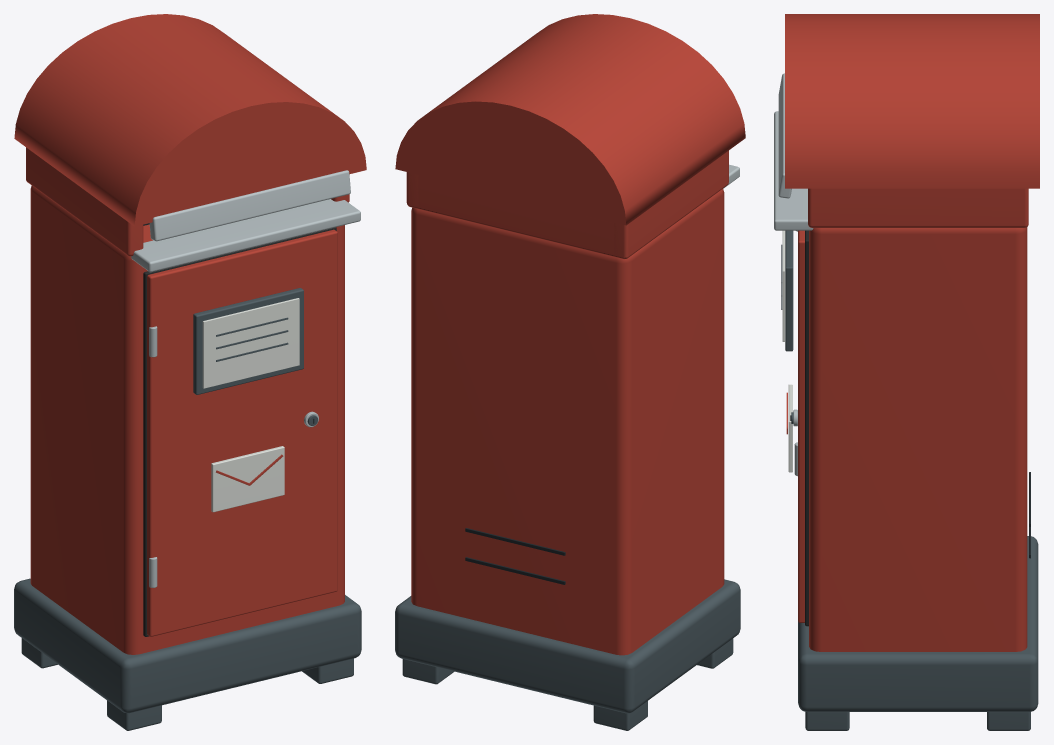
Rendered from city-postal-box.glb.
The picture shows the model from 3 angles, left to right: view 1: azimuth 30°, elevation 25°; view 2: azimuth 150°, elevation 25°; view 3: azimuth 270°, elevation 25°; orthographic projection. The views are drawn at different scales.
Parts seen in each view (by area): view 1: Collection service door folded metal panel, Mail storage body, Arched rain canopy, Postal ground plinth, Mail inlet lower sill, Blank collection notice, Rain flap, Mail inlet side cheek, Envelope blank plate, Collection notice frame, Collection service door inset seal, Ground anchor foot (+1 smaller); view 2: Mail storage body, Arched rain canopy, Postal ground plinth, Mail inlet rear upstand, Mail inlet side cheek, Ground anchor foot.001, Ground anchor foot.003; view 3: Mail storage body, Arched rain canopy, Postal ground plinth, Mail inlet side cheek.001, Collection service door folded metal panel, Mail inlet lower sill, Collection service door inset seal, Collection notice frame, Rain flap, Ground anchor foot.002, Ground anchor foot.003.
Boxes of the visible parts, x1,y1,x2,y2 form: Collection service door folded metal panel: (147, 229, 337, 636); Mail storage body: (30, 185, 344, 654); Arched rain canopy: (14, 14, 366, 226); Postal ground plinth: (14, 578, 361, 713); Mail inlet lower sill: (131, 199, 360, 272); Blank collection notice: (202, 298, 299, 388); Rain flap: (149, 170, 350, 241); Mail inlet side cheek: (26, 147, 143, 256); Envelope blank plate: (211, 446, 284, 512); Collection notice frame: (193, 288, 303, 394); Collection service door inset seal: (143, 227, 336, 636); Ground anchor foot: (107, 700, 161, 730); Mail storage body: (411, 188, 724, 655); Arched rain canopy: (395, 14, 745, 225); Postal ground plinth: (395, 579, 740, 713); Mail inlet rear upstand: (408, 172, 625, 259); Mail inlet side cheek: (614, 150, 728, 258); Ground anchor foot.001: (593, 701, 647, 730); Ground anchor foot.003: (402, 659, 454, 684); Mail storage body: (809, 227, 1027, 651); Arched rain canopy: (785, 14, 1039, 188); Postal ground plinth: (798, 536, 1038, 711); Mail inlet side cheek.001: (808, 188, 1028, 227); Collection service door folded metal panel: (798, 230, 804, 622); Mail inlet lower sill: (774, 111, 813, 230); Collection service door inset seal: (805, 230, 808, 626); Collection notice frame: (785, 230, 793, 351); Rain flap: (778, 73, 791, 198); Ground anchor foot.002: (805, 712, 849, 730); Ground anchor foot.003: (987, 712, 1030, 730).
Size of the model in its own units: 0.6 by 1.45 by 0.542.
